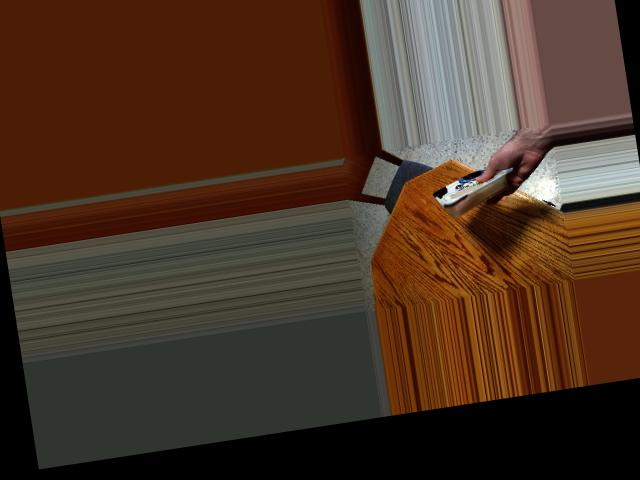cheese: (431, 152, 512, 223)
